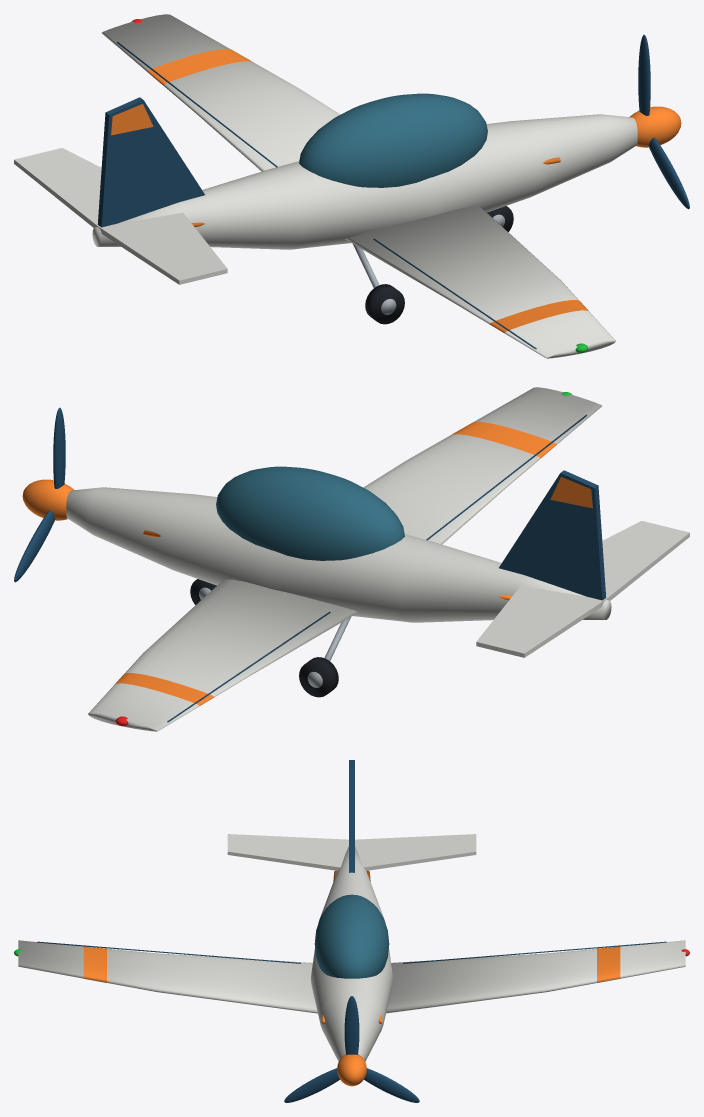
File: swift_sport.glb
3 views of the same model, one above another, from view 1: azimuth 30°, elevation 25°; view 2: azimuth 150°, elevation 25°; view 3: azimuth 270°, elevation 25° (orthographic). The views are drawn at different scales.
Visible parts, largest first — view 1: Swift fuselage, Starboard low wing, Port low wing, Canopy, Fin, Tailplane, Tailplane.001, Conforming orange wing band, Spinner, Conforming orange wing band.001, Tyre.001, Propeller blade (+2 smaller); view 2: Swift fuselage, Port low wing, Starboard low wing, Canopy, Fin, Tailplane.001, Tailplane, Conforming orange wing band.001, Spinner, Conforming orange wing band, Tyre.002, Propeller blade (+2 smaller); view 3: Port low wing, Starboard low wing, Swift fuselage, Canopy, Tailplane, Tailplane.001, Conforming orange wing band, Conforming orange wing band.001, Spinner, Propeller blade, Propeller blade.001, Propeller blade.002 (+1 smaller).
Part boxes in pixels (box(x1,y1,x2,y2)): Swift fuselage: box(92, 114, 637, 249); Starboard low wing: box(345, 206, 615, 358); Port low wing: box(102, 14, 340, 171); Canopy: box(299, 93, 487, 187); Fin: box(97, 97, 204, 227); Tailplane: box(98, 212, 227, 284); Tailplane.001: box(14, 148, 101, 227); Conforming orange wing band: box(147, 48, 251, 84); Spinner: box(630, 106, 681, 147); Conforming orange wing band.001: box(489, 300, 588, 332); Tyre.001: box(365, 284, 404, 324); Propeller blade: box(638, 34, 650, 115); Swift fuselage: box(66, 487, 611, 622); Port low wing: box(88, 579, 358, 731); Starboard low wing: box(363, 387, 601, 544); Canopy: box(216, 466, 404, 560); Fin: box(499, 470, 606, 600); Tailplane.001: box(476, 585, 605, 657); Tailplane: box(602, 521, 689, 600); Conforming orange wing band.001: box(452, 421, 556, 457); Spinner: box(22, 479, 73, 520); Conforming orange wing band: box(115, 673, 214, 705); Tyre.002: box(299, 657, 338, 697); Propeller blade: box(53, 407, 65, 488); Port low wing: box(386, 940, 685, 1013); Starboard low wing: box(18, 940, 317, 1013); Swift fuselage: box(311, 846, 392, 1061); Canopy: box(314, 894, 389, 978); Tailplane: box(227, 834, 348, 870); Tailplane.001: box(355, 834, 476, 870); Conforming orange wing band: box(597, 946, 620, 982); Conforming orange wing band.001: box(83, 946, 106, 982); Spinner: box(337, 1054, 366, 1086); Propeller blade: box(344, 996, 359, 1054); Propeller blade.001: box(364, 1068, 419, 1102); Propeller blade.002: box(284, 1068, 339, 1102).
Bounding box in the file's own units: 7.12 × 2.62 × 9.52.
